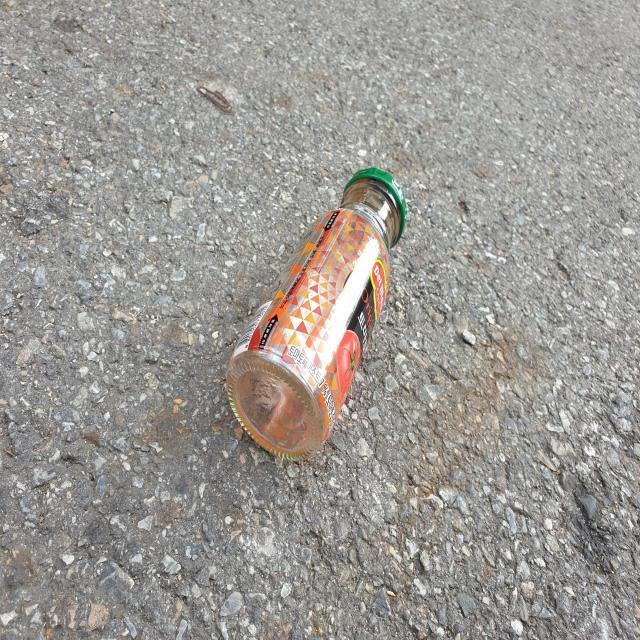glass: (227, 167, 407, 461)
